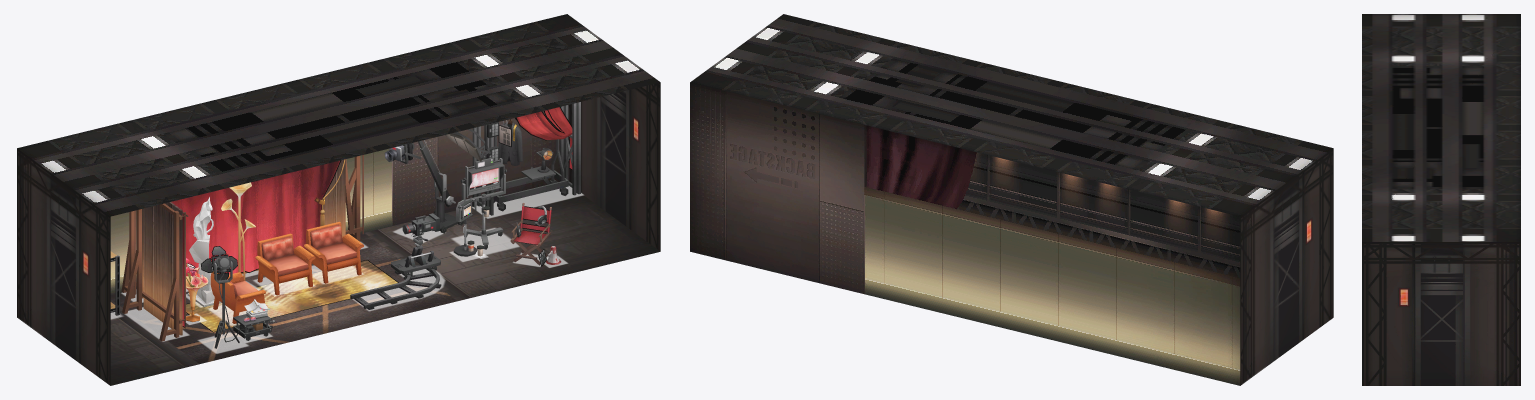
File: videoStudio.glb
3 views of the same model, side by side, from view 1: azimuth 30°, elevation 25°; view 2: azimuth 150°, elevation 25°; view 3: azimuth 270°, elevation 25° (orthographic). The views are drawn at different scales.
Parts seen in each view (by area): view 1: ROOM_room, ROOM_floor, furni_videoStudio_background_03, furni_videoStudio_background_01, furni_videoStudio_carpet_01, furni_videoStudio_cabinet_02.001, furni_videoStudio_background_02.001, furni_videoStudio_monitor_02, furni_videoStudio_sofa_02, furni_videoStudio_sofa_02.001, furni_videoStudio_cabinet_04, ROOM_LDoor (+21 smaller); view 2: ROOM_room, ROOM_LDoor; view 3: ROOM_room, ROOM_RDoor.
Boxes of the visible parts, <box> form: ROOM_room: <box>17,14,660,385</box>; ROOM_floor: <box>110,186,660,385</box>; furni_videoStudio_background_03: <box>171,160,340,276</box>; furni_videoStudio_background_01: <box>122,202,188,341</box>; furni_videoStudio_carpet_01: <box>186,260,398,332</box>; furni_videoStudio_cabinet_02.001: <box>472,102,580,215</box>; furni_videoStudio_background_02.001: <box>121,155,363,298</box>; furni_videoStudio_monitor_02: <box>456,157,506,251</box>; furni_videoStudio_sofa_02: <box>255,233,315,295</box>; furni_videoStudio_sofa_02.001: <box>304,221,363,283</box>; furni_videoStudio_cabinet_04: <box>498,107,572,169</box>; ROOM_LDoor: <box>77,285,96,375</box>; ROOM_room: <box>690,14,1333,385</box>; ROOM_LDoor: <box>1300,251,1319,341</box>; ROOM_room: <box>1362,14,1520,385</box>; ROOM_RDoor: <box>1385,320,1417,385</box>.
Size of the model in its own units: 7.54 by 2.2 by 2.2.
Materials: 7 (7 with a texture image).
